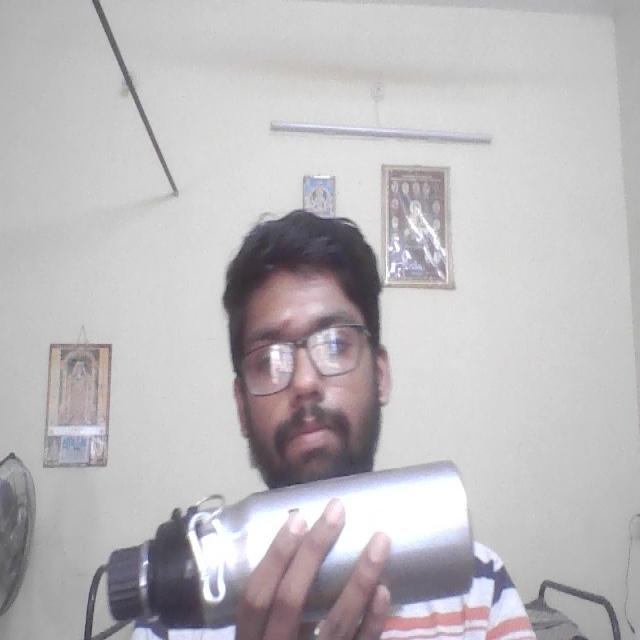Drinking: (102, 448, 481, 634)
